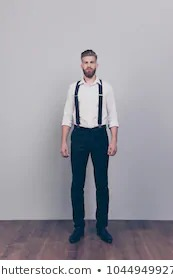F_dress pants: (67, 121, 112, 228)
